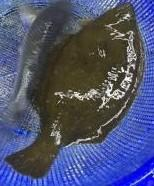fish: (5, 4, 145, 179)
